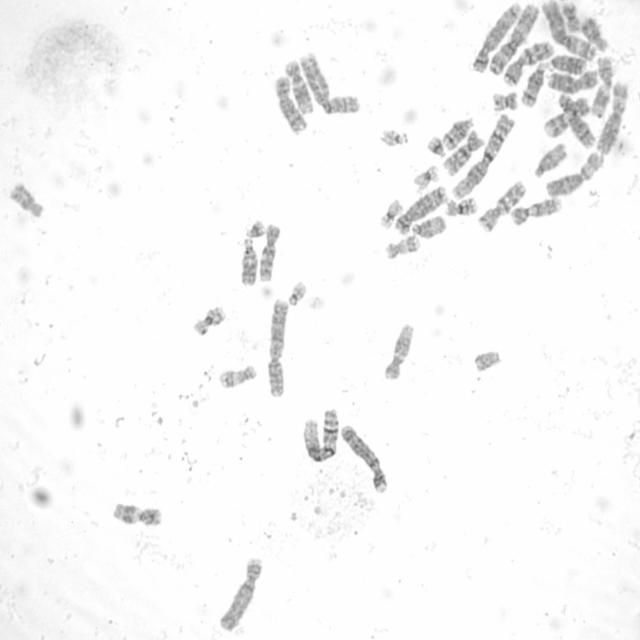A1: (450, 112, 516, 201), (300, 405, 341, 464)
A2: (298, 49, 362, 116), (264, 294, 291, 398)
A3: (486, 0, 541, 75), (538, 0, 600, 62)
B4: (216, 554, 264, 632), (339, 421, 390, 494)
B5: (469, 0, 522, 73), (392, 182, 447, 236)
C10: (440, 126, 484, 180), (256, 220, 281, 283)
C11: (588, 53, 615, 119), (111, 500, 163, 528)
C12: (381, 320, 415, 382), (282, 57, 315, 115)
C6: (543, 148, 605, 198), (594, 80, 630, 155)
C7: (476, 177, 528, 234), (500, 38, 556, 87)
C8: (555, 92, 598, 150), (272, 73, 308, 136)
C9: (541, 94, 590, 138), (509, 195, 563, 227)
D13: (238, 235, 259, 288), (546, 50, 587, 76)
D14: (517, 56, 550, 108), (440, 112, 475, 152)
D15: (531, 138, 568, 180), (408, 211, 448, 239)
E16: (190, 301, 227, 337), (442, 194, 479, 218)
E17: (215, 361, 258, 390), (382, 232, 421, 260)
E18: (7, 178, 45, 218), (579, 14, 610, 53)
F19: (410, 162, 440, 194), (377, 196, 404, 231)
F20: (559, 0, 582, 32), (490, 88, 519, 113)
G21: (424, 133, 448, 158), (243, 216, 266, 240)
G22: (378, 124, 409, 148), (286, 277, 308, 307)
X: (545, 67, 599, 94)
Y: (471, 346, 502, 373)
